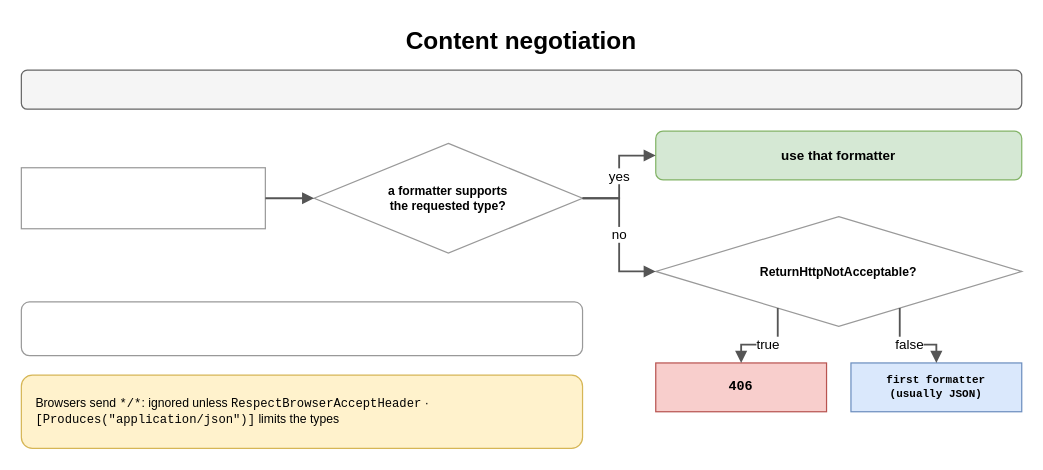
Image size: 1043x470. Some labels were removed from this diagram. The box of each missing label's shape, as (x1, y1, x2, y2) in pixels:
Accept: text/csv: (20, 167, 265, 229)
no Accept header → JSON: (20, 301, 583, 356)
The Accept header picks a formatter: (20, 69, 1022, 109)
